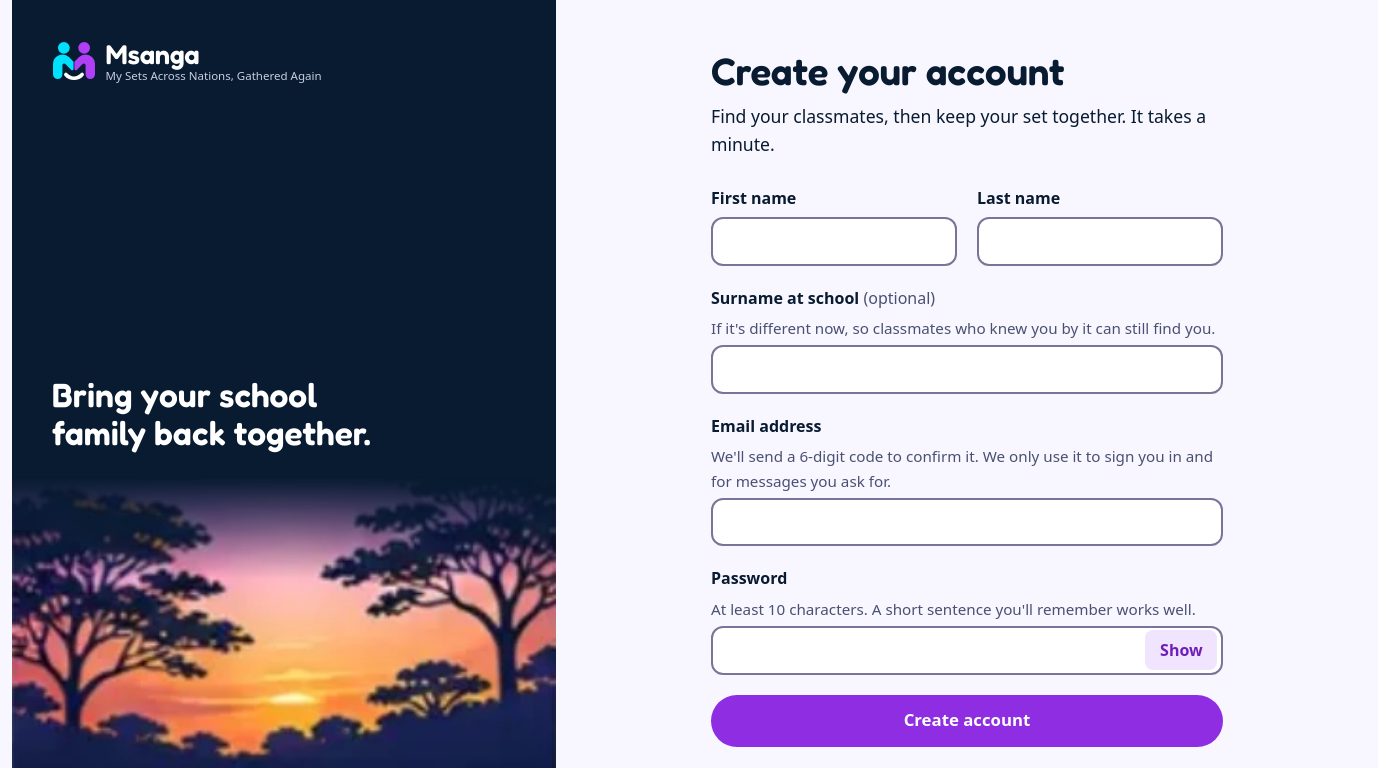
Create account and the 6-digit code (against the pretend API) › checks the code looks like 6 digits before asking the API
Expected: the heading "Create your account" is shown, [711,48,1064,94]
Type "Bola" into the field labelled "First name" at (834,241), box [711,217,957,266]
Type "Eze" into the field labelled "Last name" at (1100,241), box [977,217,1223,266]
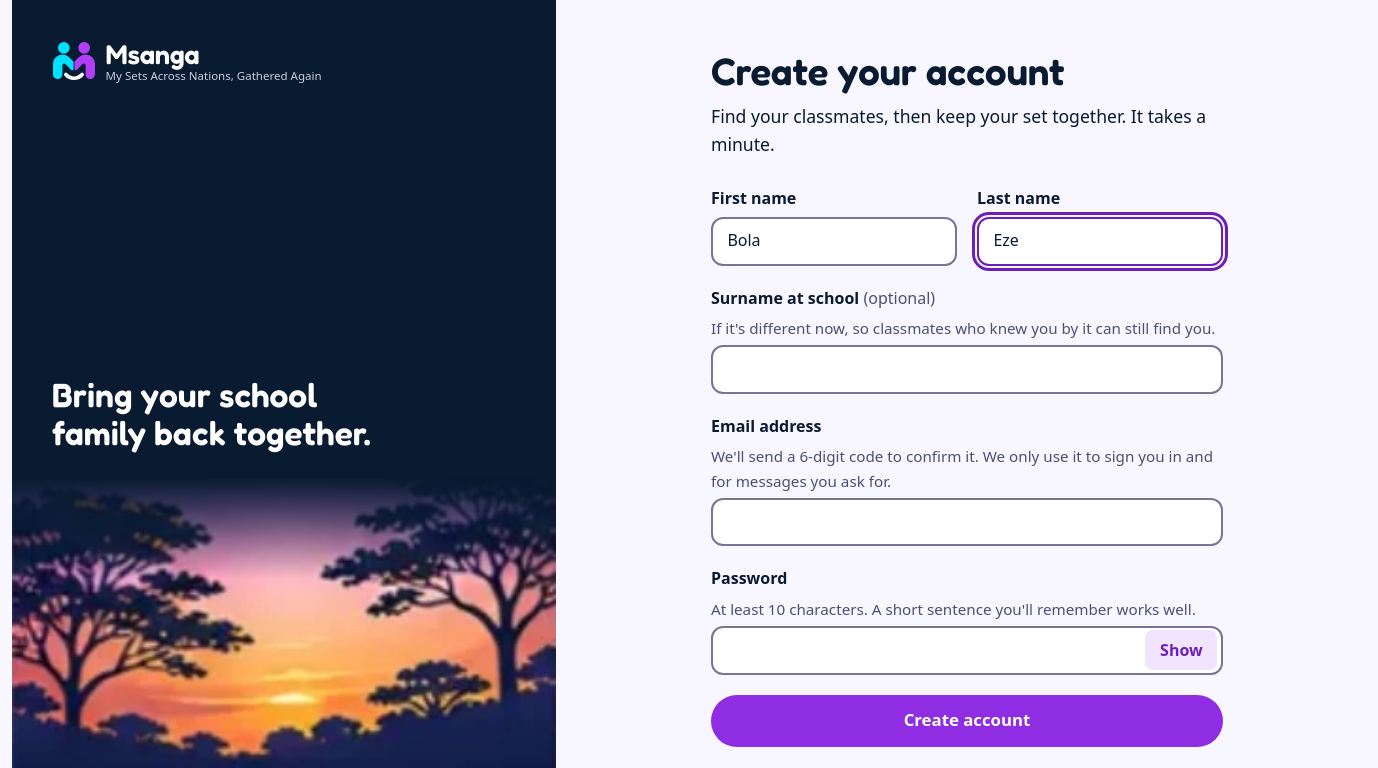
Type "bola@example.com" into the field labelled "Email address" at (967,522), box [711,498,1223,546]
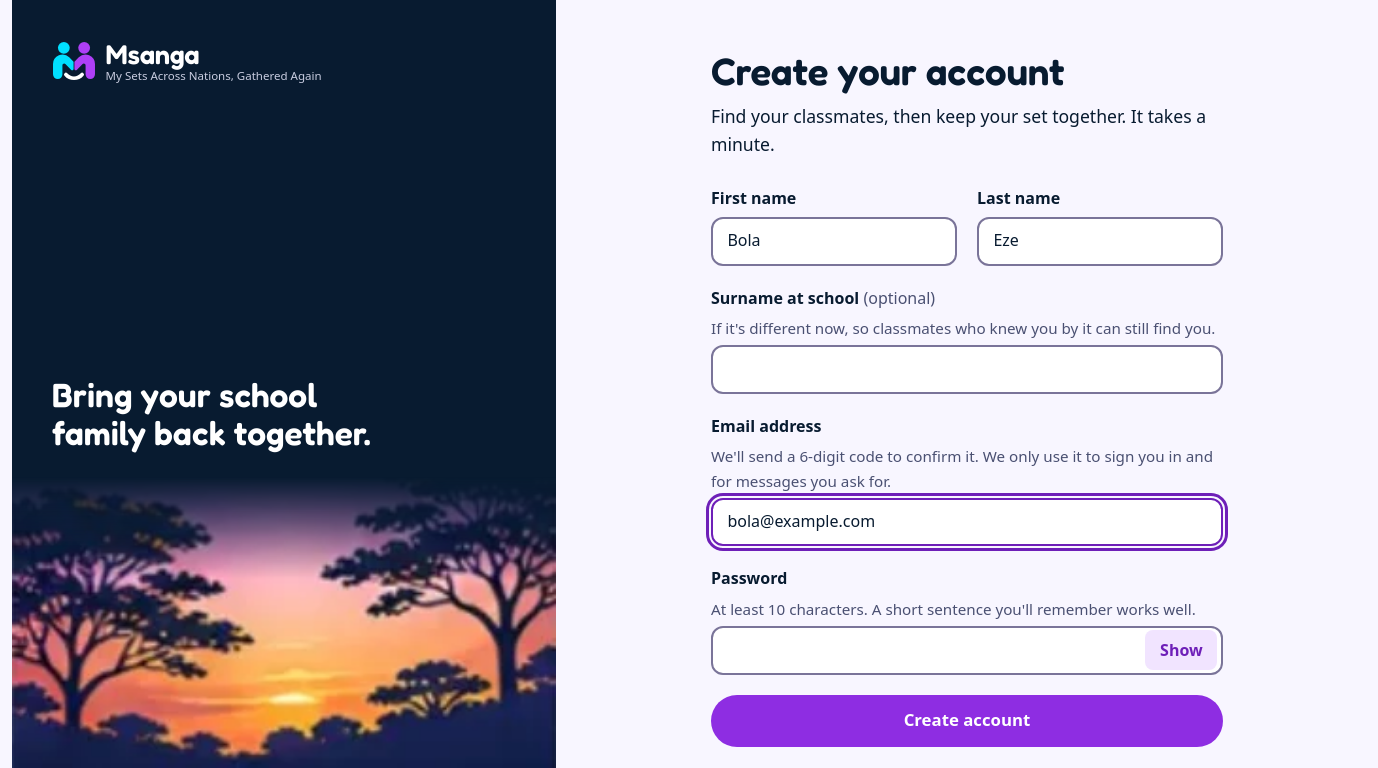
Type "my old school bell" into the password field labelled "Password" at (967,650), box [711,626,1223,675]
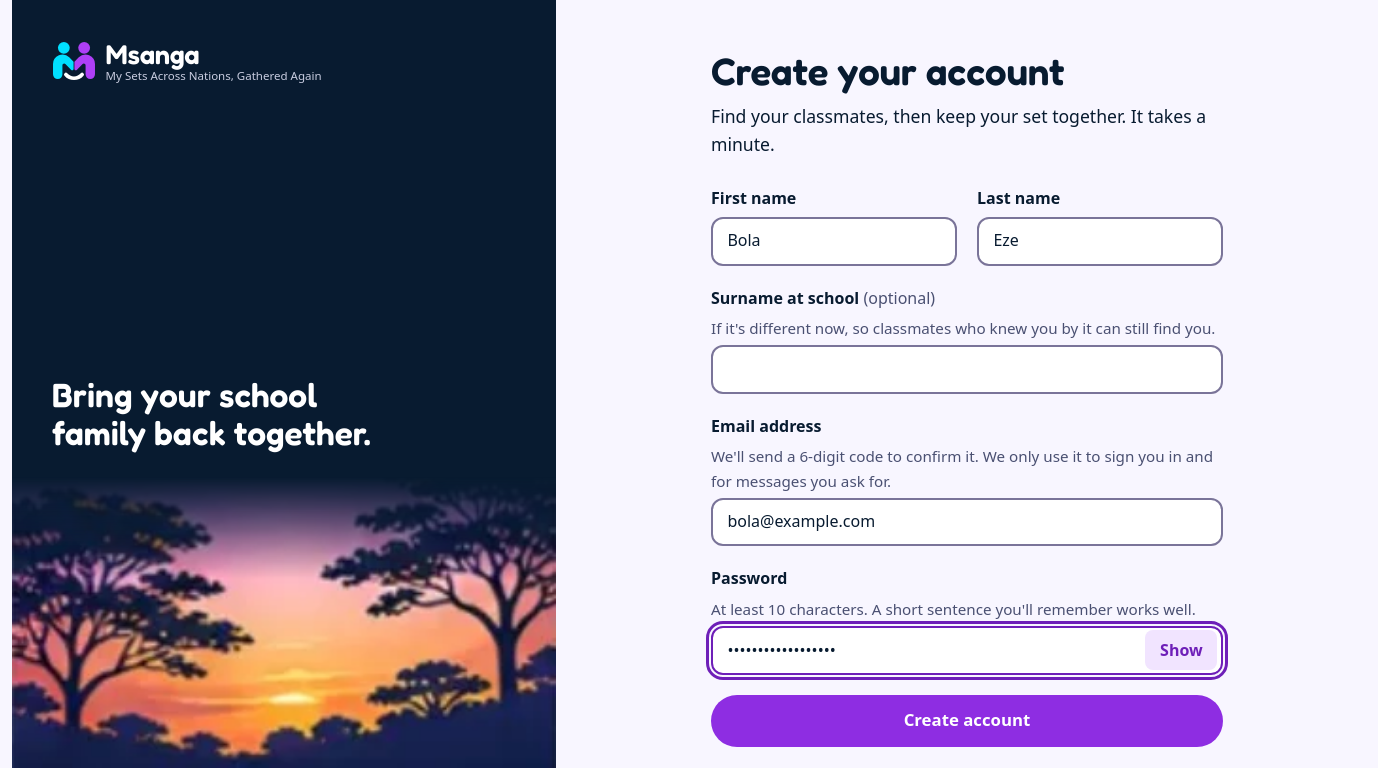
Click the button "Create account" at (967,721), box [711,695,1223,747]
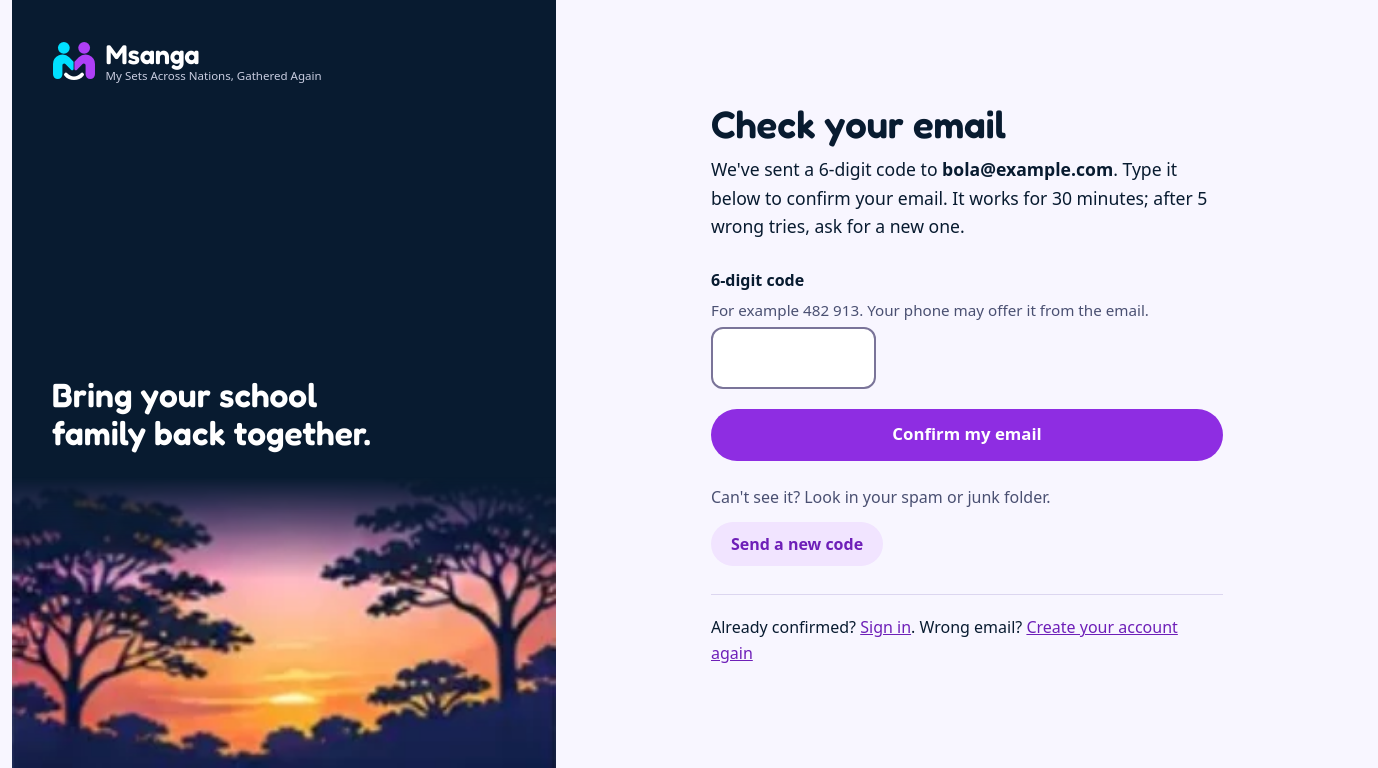
Now the heading "Check your email" is shown, box [711,101,1006,147]
Type "12a" into the field labelled "6-digit code" at (793,358), box [711,327,876,389]
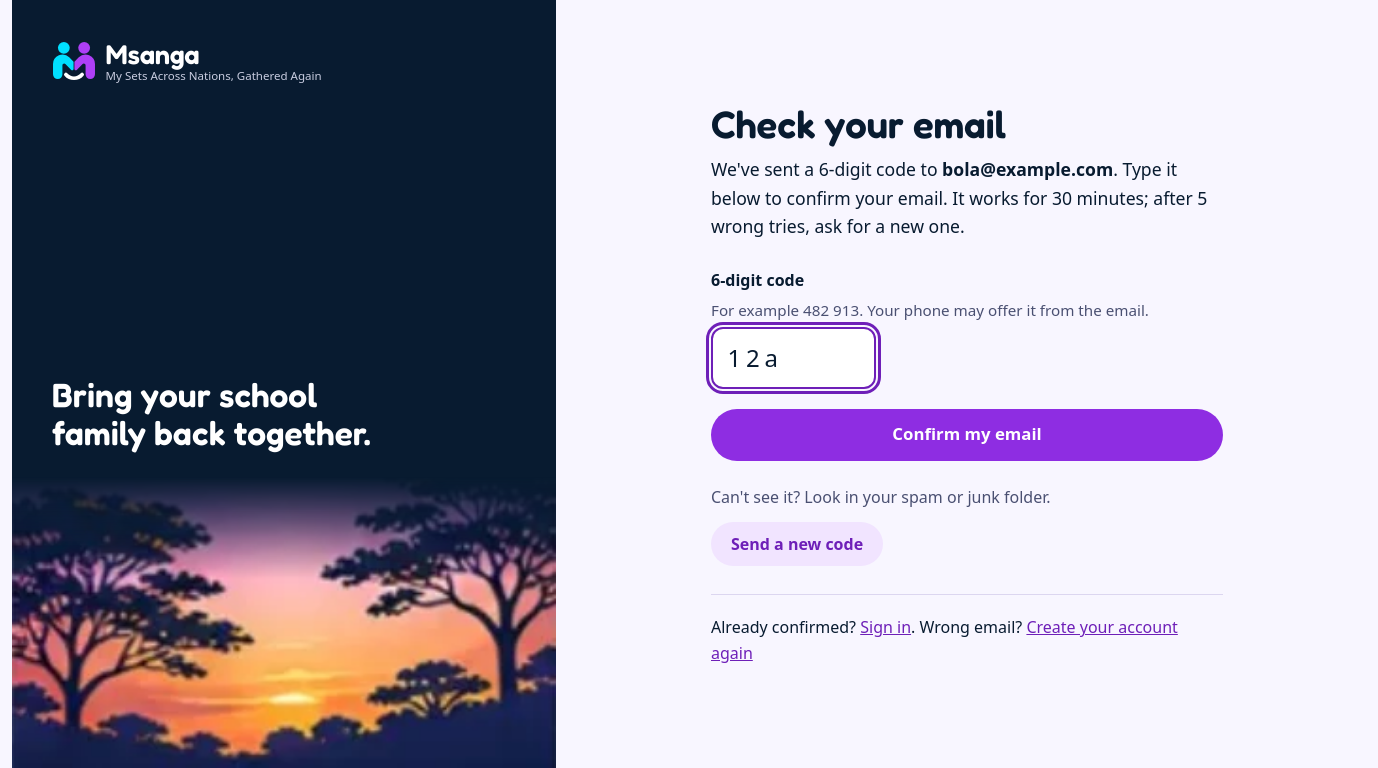
Click the button "Confirm my email" at (967,435), box [711,409,1223,461]
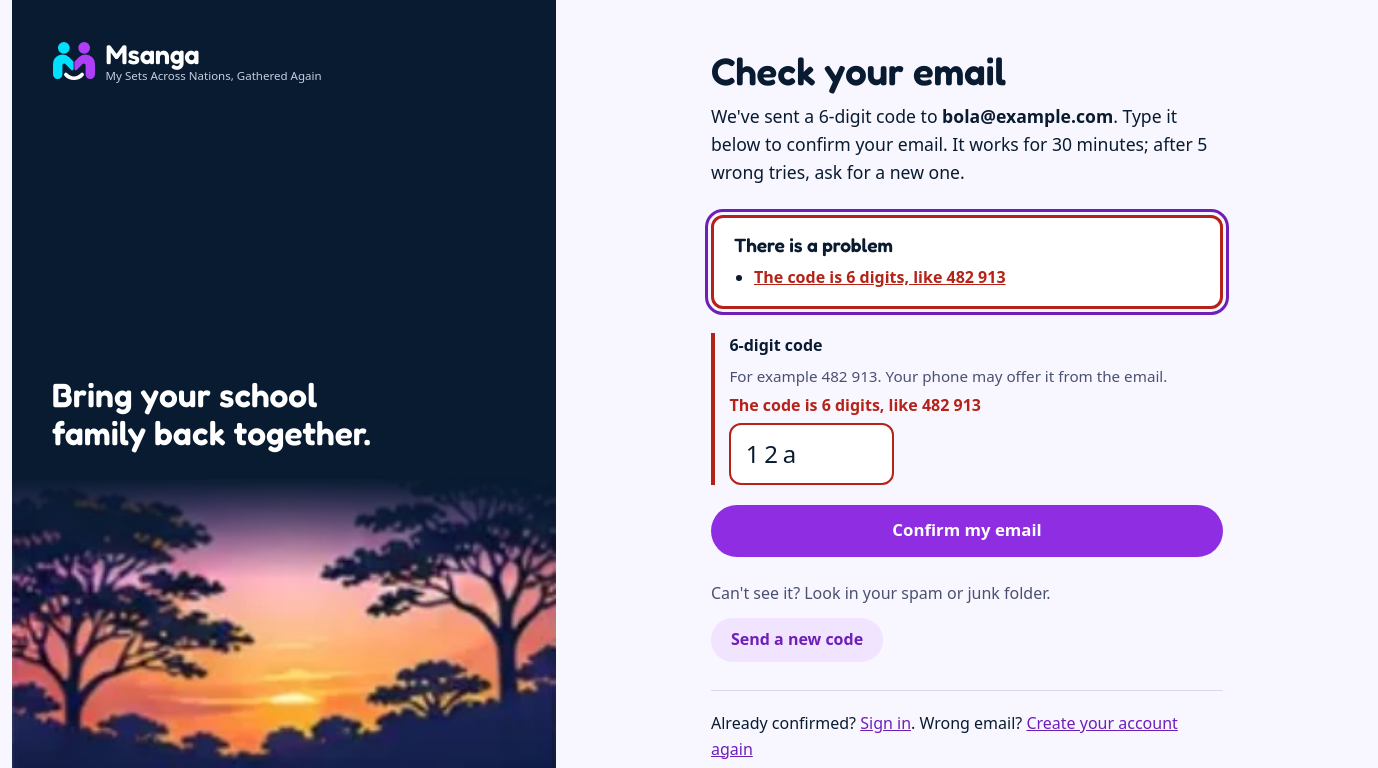
Now the number of links "The code is 6 digits, like 482 913" is 2, box [754,266,1006,288]; [728,393,981,416]
